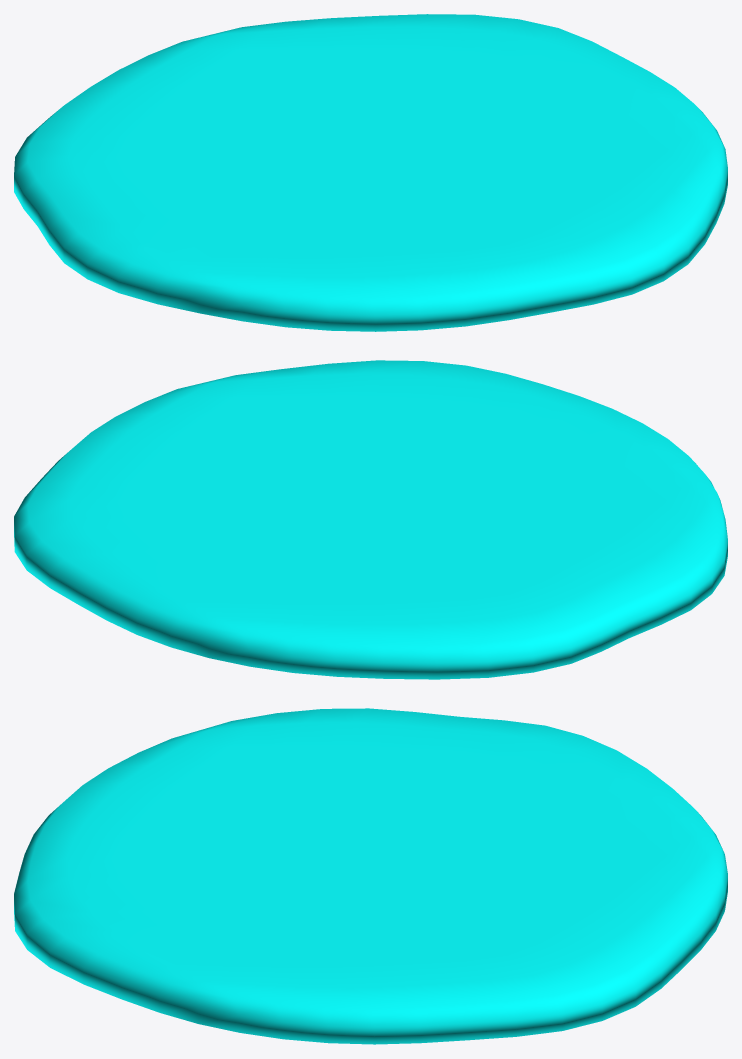
Rendered from flaque.fbx.
The picture shows the model from 3 angles, top to bottom: view 1: azimuth 30°, elevation 25°; view 2: azimuth 150°, elevation 25°; view 3: azimuth 270°, elevation 25°; orthographic projection. The views are drawn at different scales.
Parts seen in each view (by area): view 1: pDisc1; view 2: pDisc1; view 3: pDisc1.
Boxes of the visible parts, x1=… form: pDisc1: x1=14, y1=14, x2=727, y2=331; pDisc1: x1=14, y1=360, x2=727, y2=679; pDisc1: x1=14, y1=708, x2=727, y2=1044.
Size of what is drawn, in the model's own units: 2.54 by 0.1314 by 2.46.
